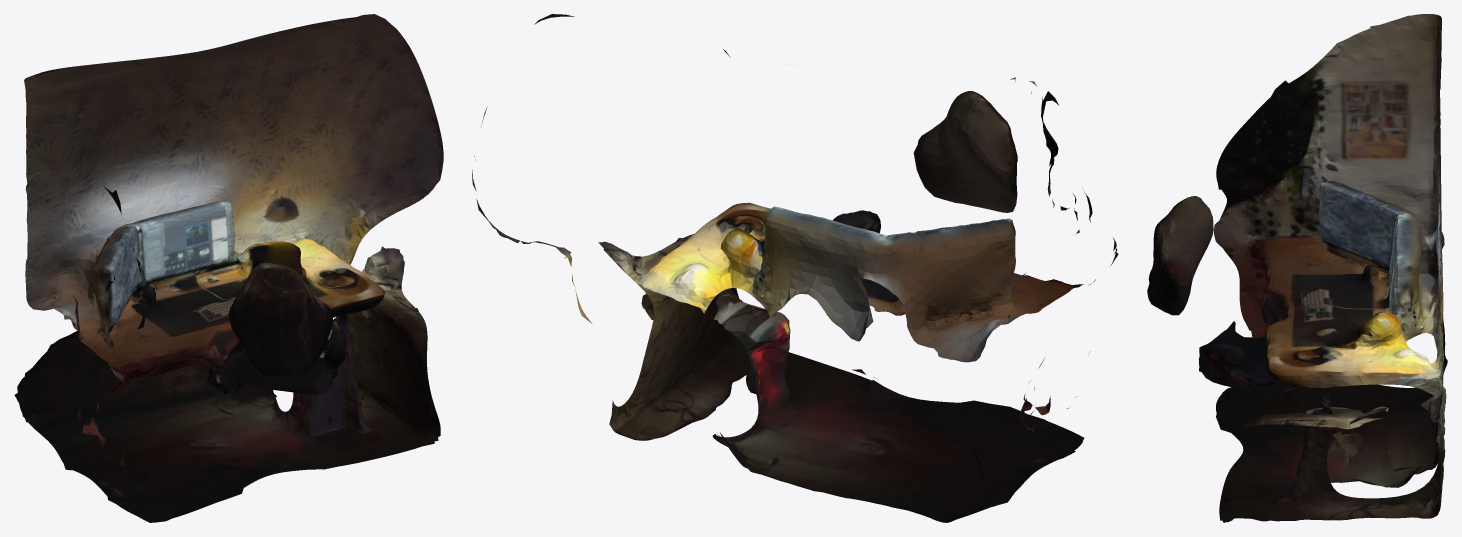
File: desk-scan.glb
The picture shows the model from 3 angles, left to right: view 1: azimuth 30°, elevation 25°; view 2: azimuth 150°, elevation 25°; view 3: azimuth 270°, elevation 25°; orthographic projection. The views are drawn at different scales.
Size of the model in its own units: 2.46 by 2.03 by 1.48.
1 material, 1 textured.
